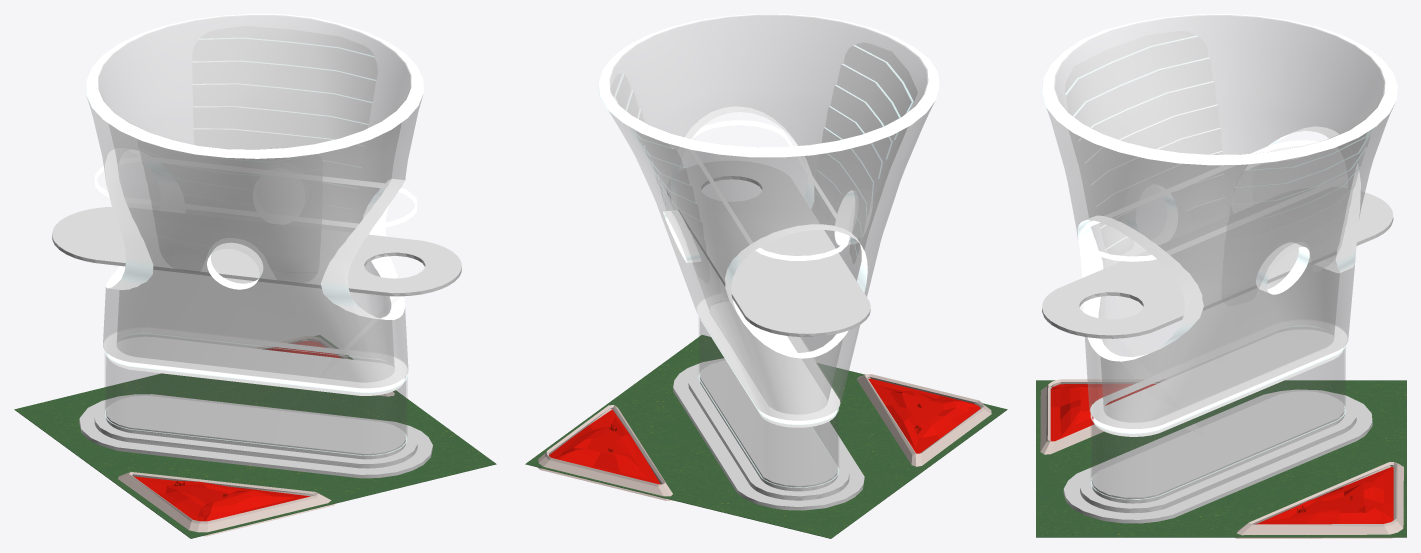
File: the fashion.glb
3 views of the same model, side by side, from view 1: azimuth 30°, elevation 25°; view 2: azimuth 150°, elevation 25°; view 3: azimuth 270°, elevation 25° (orthographic). The views are drawn at different scales.
Parts seen in each view (by area): view 1: Cylinder.002, Cube.006, FloorBaseGrass_01, Cylinder.003, Cylinder, Cylinder.001, Cylinder.004, Cylinder.005, red grass.003, Cylinder.006, red grass.002; view 2: Cylinder.002, FloorBaseGrass_01, Cylinder.004, Cylinder.003, Cylinder.001, Cube.006, Cylinder, Cylinder.005, red grass.002, red grass.003, Cylinder.006; view 3: Cylinder.002, Cube.006, Cylinder.003, FloorBaseGrass_01, Cylinder.001, Cylinder.004, Cylinder, Cylinder.005, red grass.002, red grass.003, Cylinder.006.
Boxes of the visible parts, x1,y1,x2,y2 form: Cylinder.002: (87, 15, 422, 387); Cube.006: (139, 26, 377, 272); FloorBaseGrass_01: (14, 335, 496, 538); Cylinder.003: (79, 394, 432, 478); Cylinder: (104, 334, 407, 455); Cylinder.001: (85, 14, 423, 388); Cylinder.004: (52, 207, 461, 296); Cylinder.005: (107, 336, 404, 395); red grass.003: (118, 472, 335, 536); Cylinder.006: (94, 157, 417, 228); red grass.002: (255, 336, 394, 396); Cylinder.002: (609, 14, 934, 420); FloorBaseGrass_01: (525, 335, 1007, 538); Cylinder.004: (667, 160, 870, 336); Cylinder.003: (673, 358, 864, 510); Cylinder.001: (598, 14, 939, 420); Cube.006: (610, 42, 917, 282); Cylinder: (698, 315, 839, 487); Cylinder.005: (700, 300, 837, 427); red grass.002: (537, 405, 672, 500); red grass.003: (857, 374, 991, 466); Cylinder.006: (689, 120, 849, 260); Cylinder.002: (1046, 15, 1394, 428); Cube.006: (1065, 31, 1373, 305); Cylinder.003: (1063, 389, 1372, 523); FloorBaseGrass_01: (1036, 380, 1406, 537); Cylinder.001: (1041, 14, 1397, 428); Cylinder.004: (1042, 187, 1393, 338); Cylinder: (1090, 326, 1345, 499); Cylinder.005: (1093, 329, 1343, 436); red grass.002: (1234, 462, 1403, 538); red grass.003: (1040, 379, 1166, 454); Cylinder.006: (1080, 140, 1347, 261).
Size of what is drawn, in the model's own units: 16 by 17.9 by 16.
12 materials, 1 textured.
